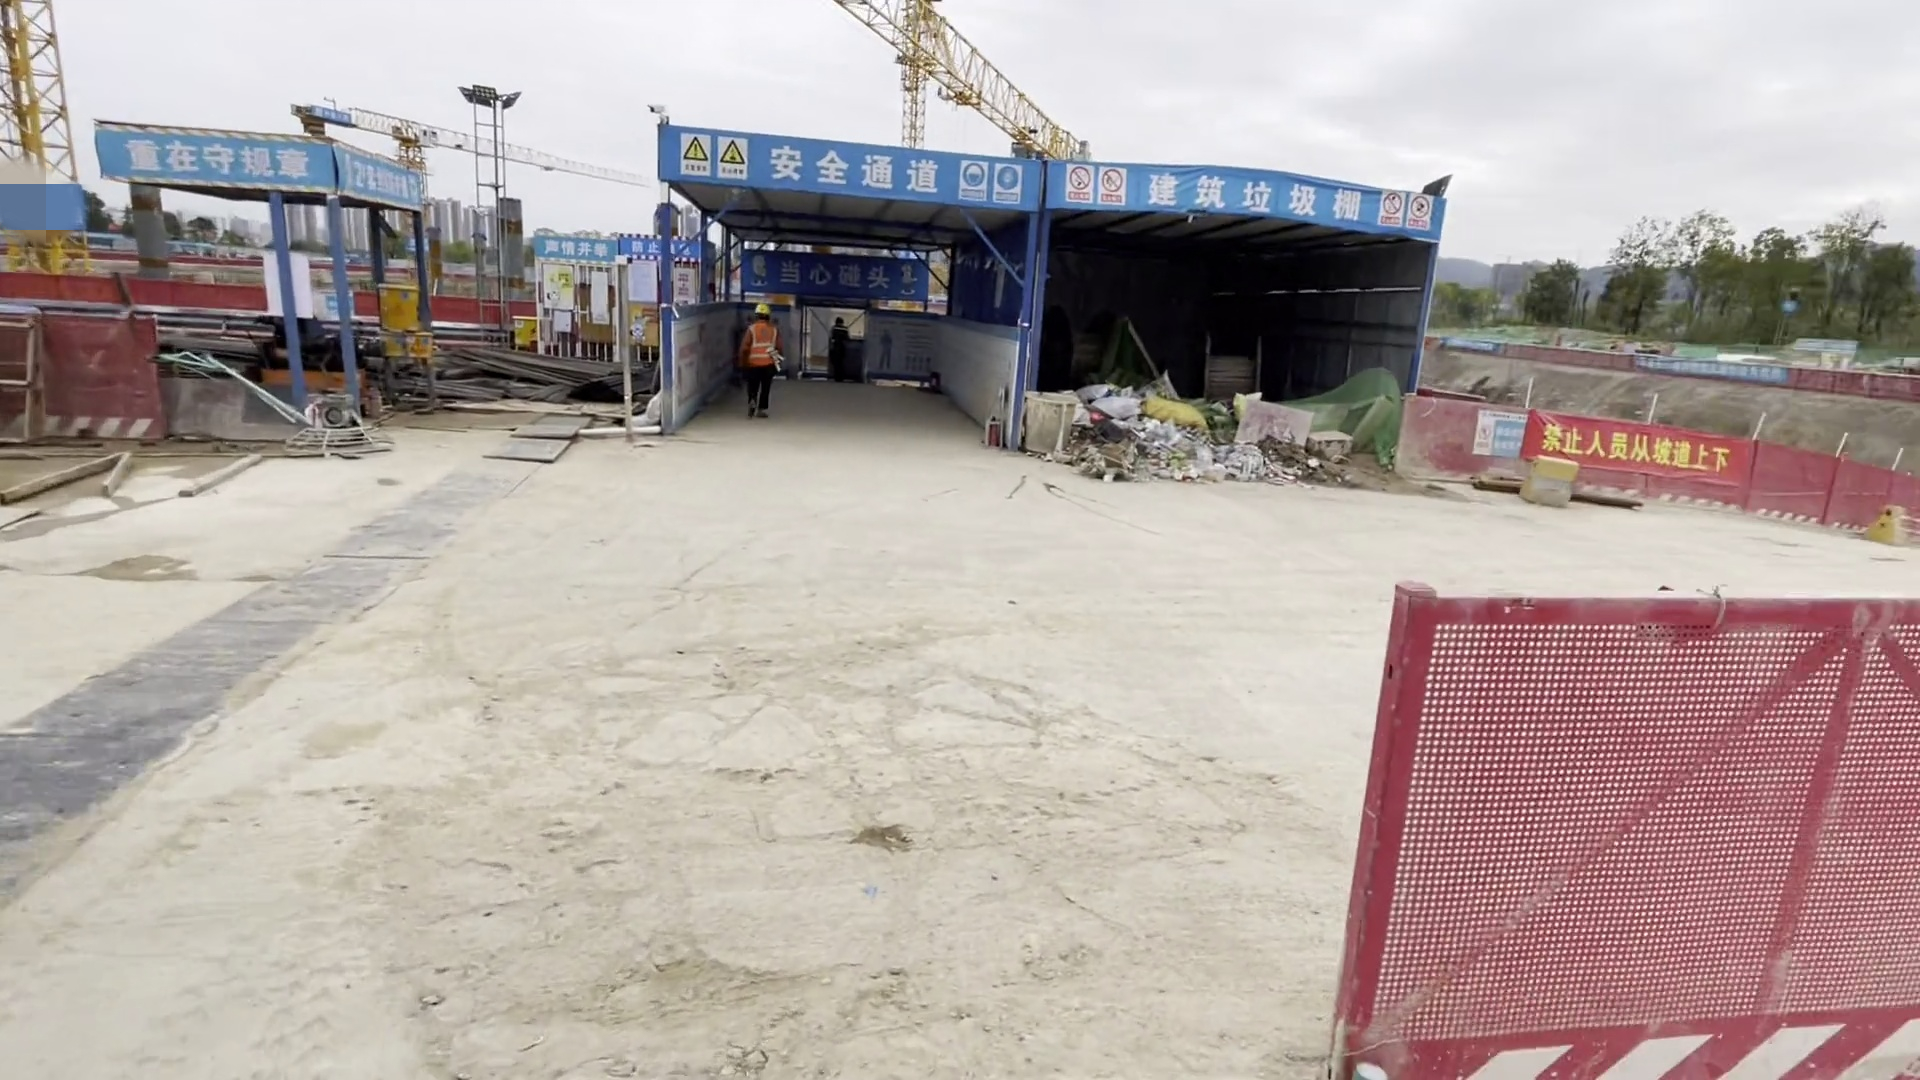ebox: (373, 284, 420, 342), (503, 314, 537, 346)
person: (736, 305, 782, 416)
slogan: (671, 129, 1430, 244), (93, 116, 425, 209), (1515, 401, 1747, 485), (749, 244, 921, 309), (528, 225, 684, 266)
vest: (741, 318, 778, 364)
